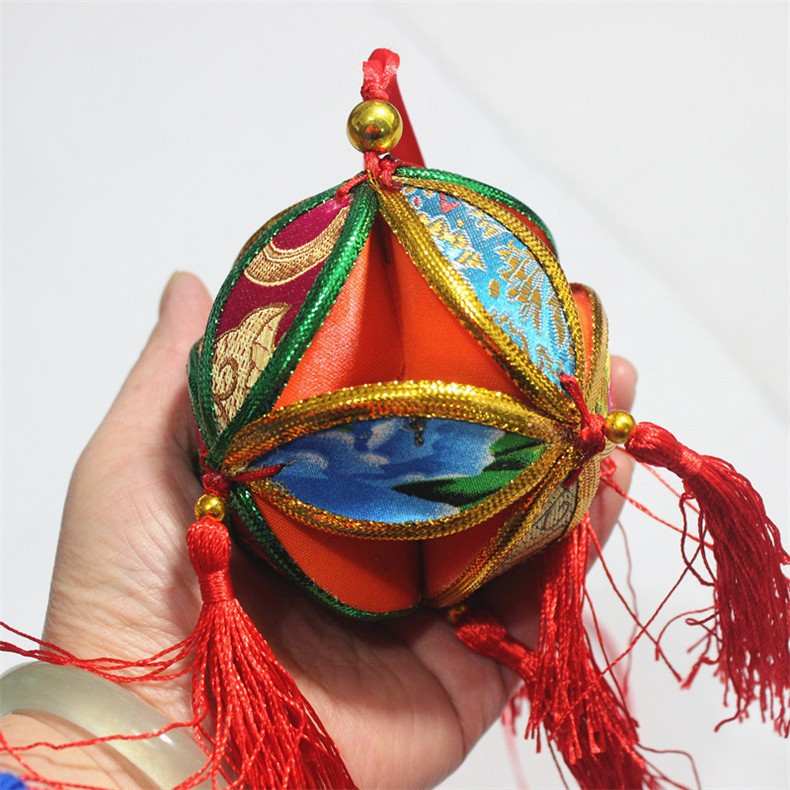xiuqiu: (190, 167, 607, 623)
